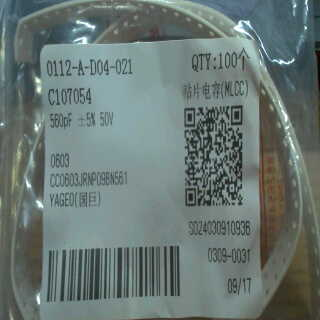560pF: (49, 111, 75, 130)
